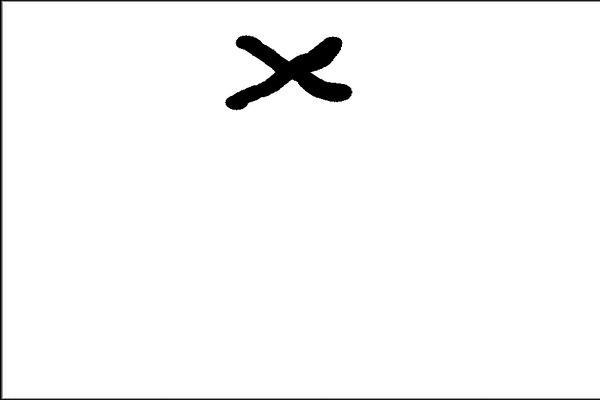X: (211, 23, 383, 137)
